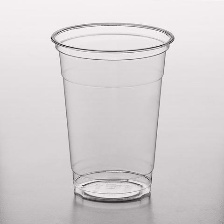glass: (48, 16, 177, 204)
